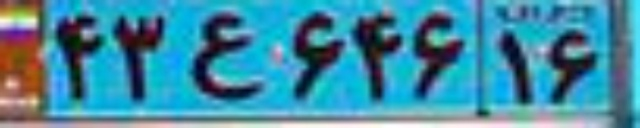1: (500, 30, 536, 104)
3: (108, 14, 180, 102)
4: (350, 8, 406, 99), (51, 15, 108, 101)
6: (284, 10, 347, 100), (412, 12, 461, 99), (545, 29, 596, 104)
ain: (185, 11, 264, 104)
